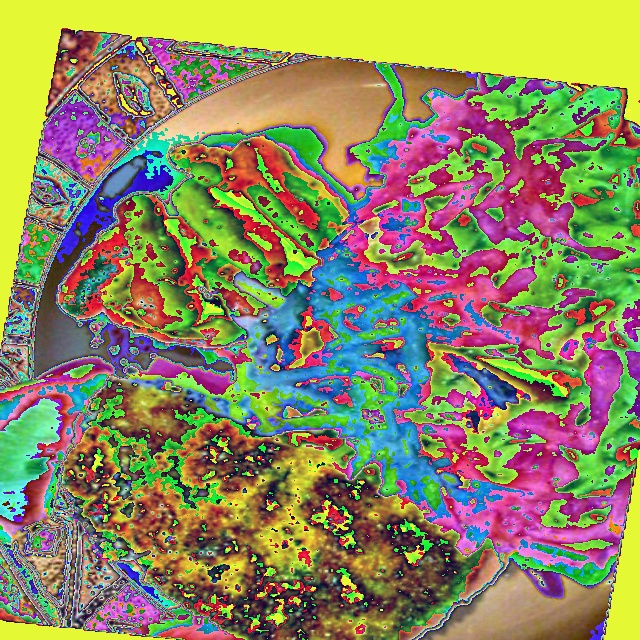background: (0, 63, 640, 639)
